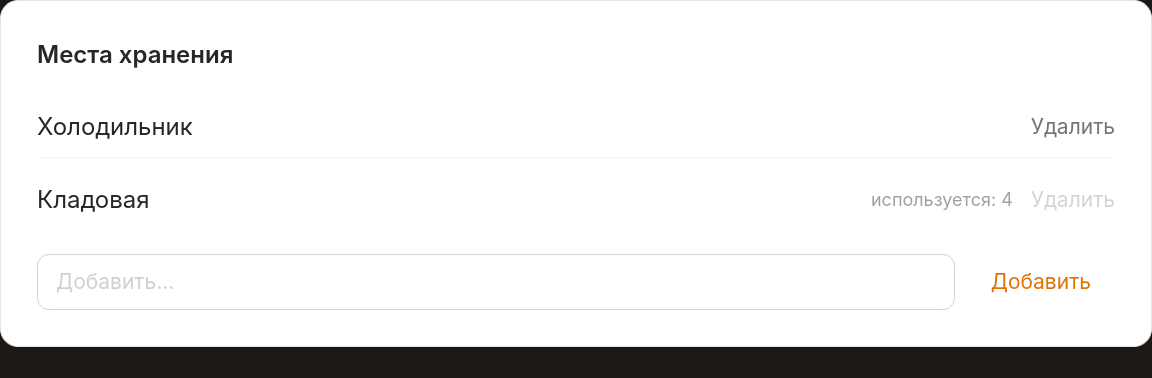
Scenario: ManagedList › does not PATCH when the name is unchanged
Click the button "Холодильник": x=115, y=127 [37,109,193,145]
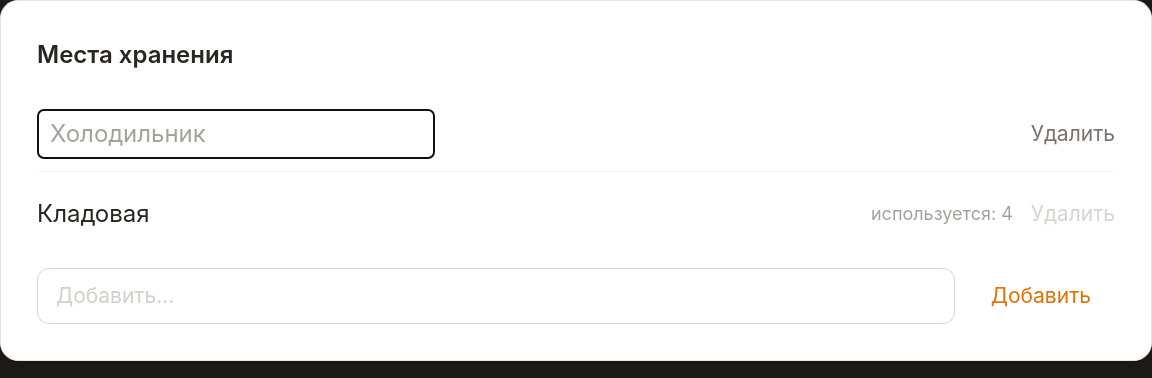
Press Enter
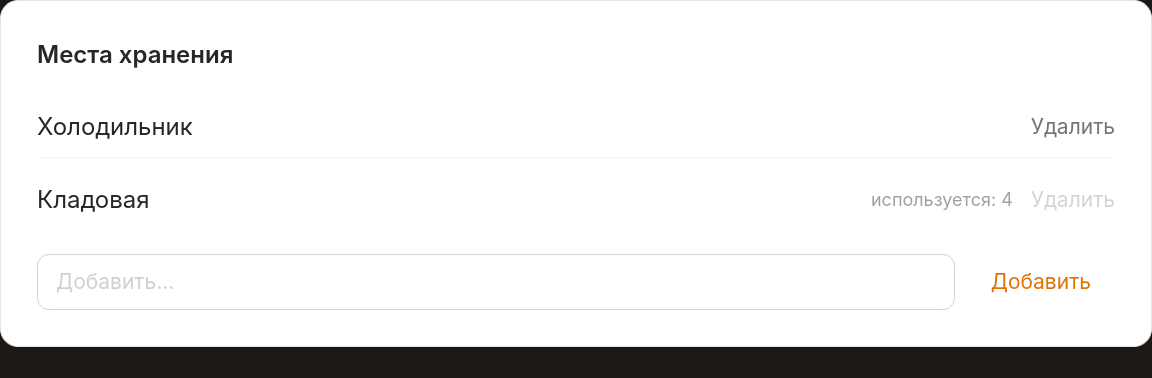
Expected: the button "Холодильник" is shown, [37,109,193,145]
